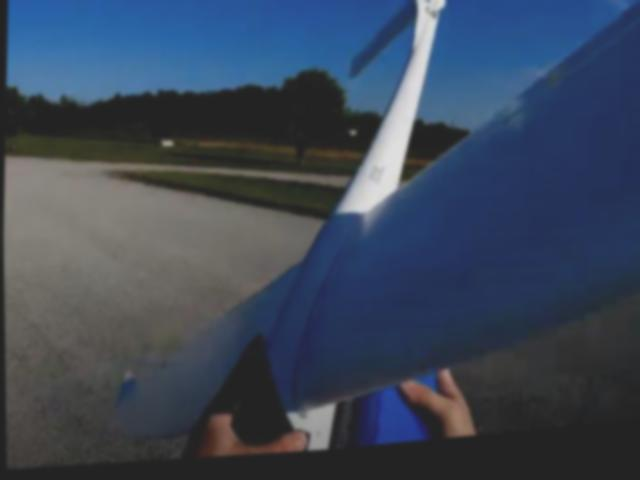iha: (100, 0, 640, 472)
